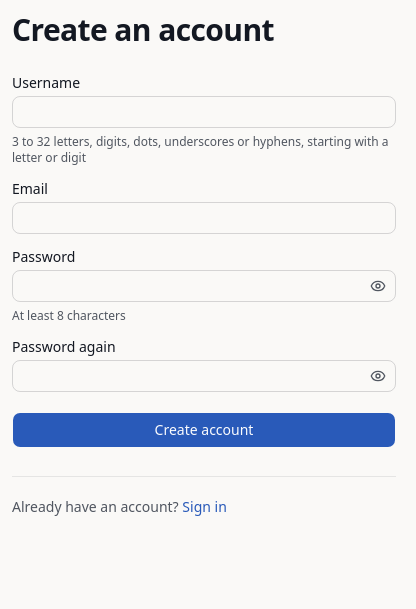
Test: registration › says a taken username or email from the refusal code, whatever the words, and keeps what was typed
Type "mei" into the field labelled "Username". click: (204, 112)
box: [12,96,396,128]
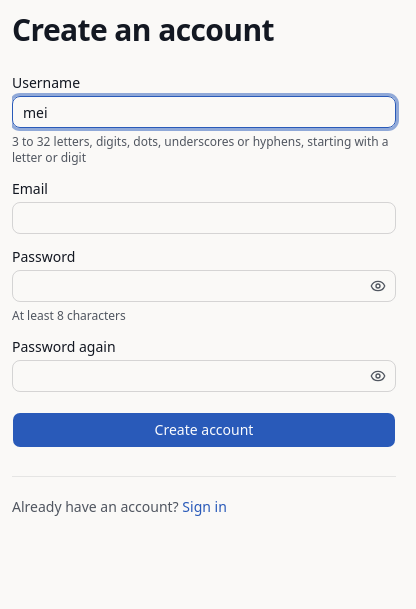
Type "mei@example.com" into the field labelled "Email". click: (204, 218)
box: [12,202,396,234]
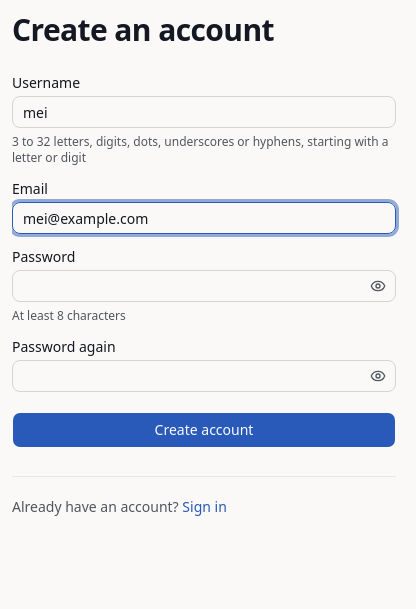
Type "watchlist mei 88" into the password field labelled "Password". click: (204, 286)
box: [12,270,396,302]
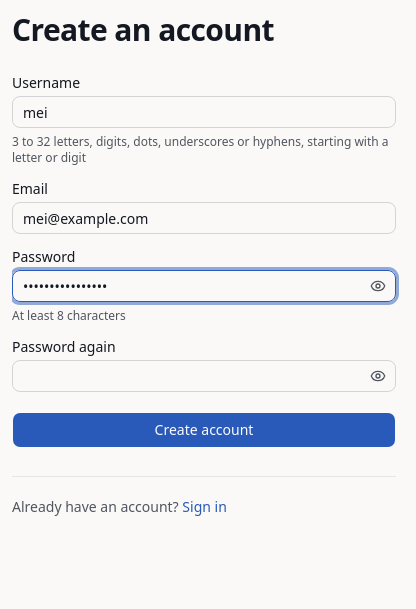
Type "watchlist mei 88" into the password field labelled "Password again". click: (204, 376)
box: [12,360,396,392]
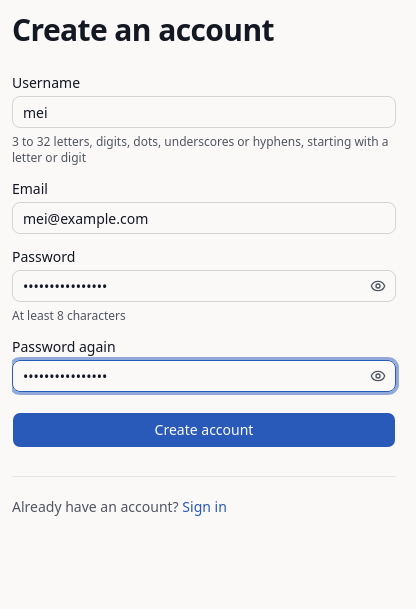
Click the button "Create account". click: (204, 430)
box: [12,412,396,448]
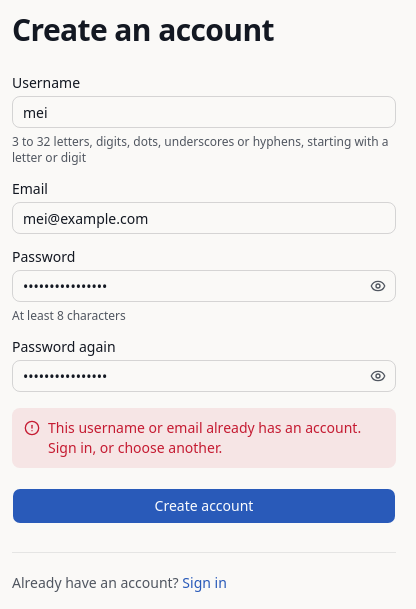
expect the message reads "This username or email already has an account. Sign in, or choose another.": met, box [48,418,361,457]
